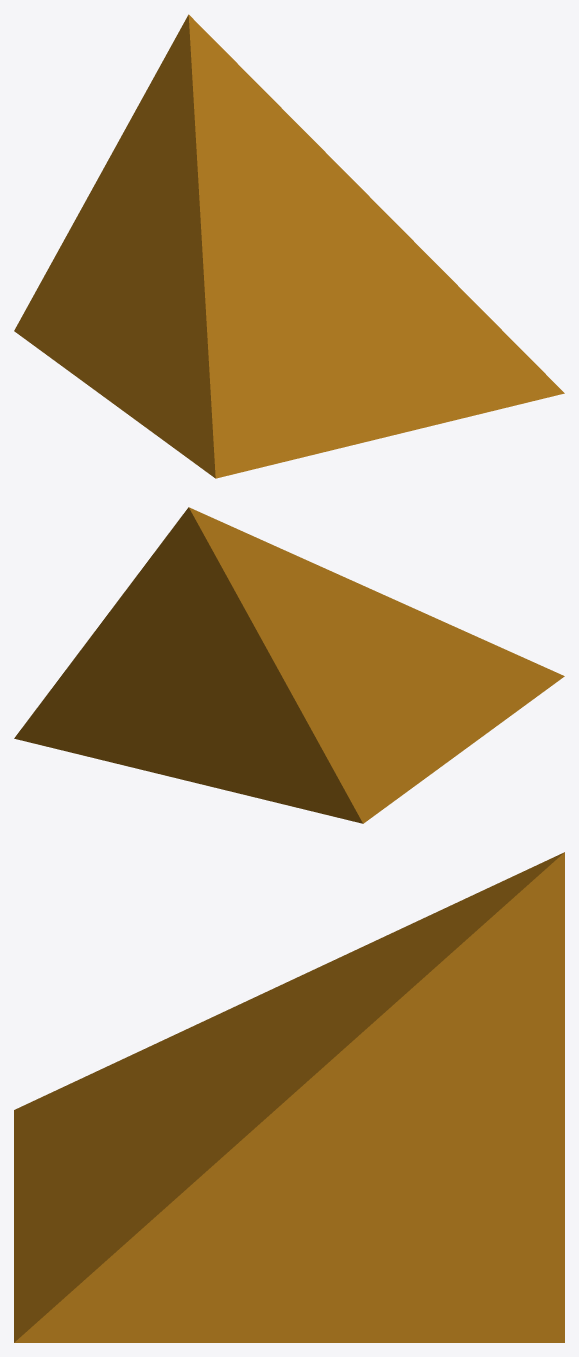
The model's file is Roof-Steep-4x4x3-Hip-End.FBX.
3 renders of one model, top to bottom at view 1: azimuth 30°, elevation 25°; view 2: azimuth 150°, elevation 25°; view 3: azimuth 270°, elevation 25°, orthographic. The views are drawn at different scales.
Parts seen in each view (by area): view 1: Roof-Steep-4x4x3-Hip-End; view 2: Roof-Steep-4x4x3-Hip-End; view 3: Roof-Steep-4x4x3-Hip-End.
Part boxes in pixels (left/top/right/bottom): Roof-Steep-4x4x3-Hip-End: left=14, top=14, right=564, bottom=478; Roof-Steep-4x4x3-Hip-End: left=14, top=507, right=564, bottom=823; Roof-Steep-4x4x3-Hip-End: left=14, top=852, right=564, bottom=1342.
Bounding box in the file's own units: 40 × 40 × 30.
